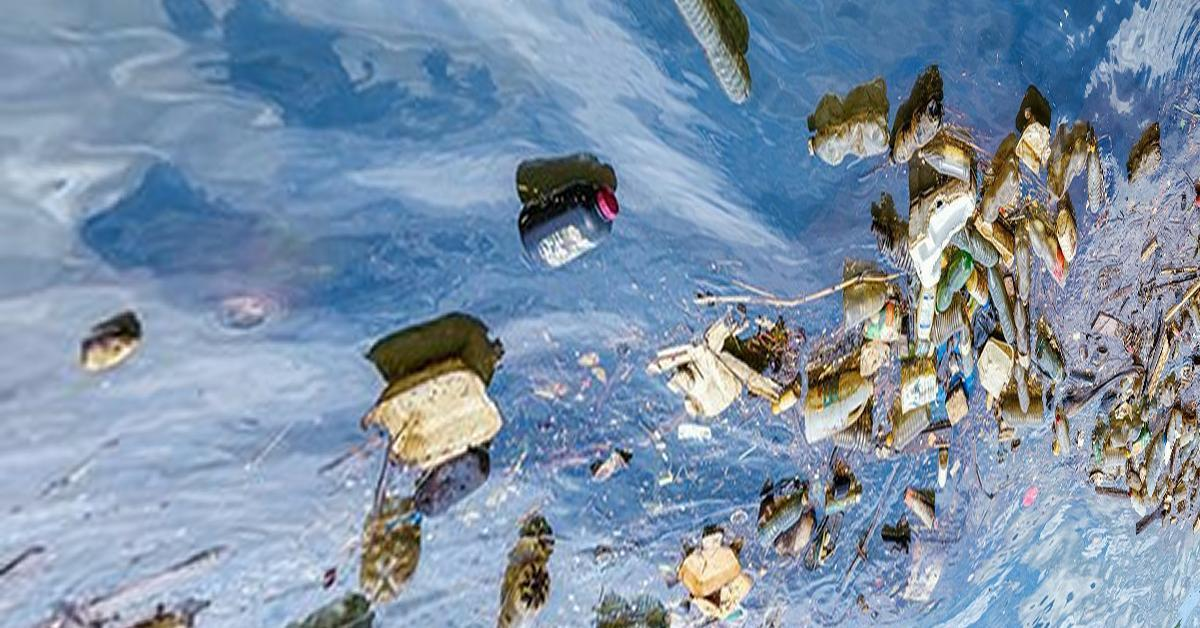Plastic Pollution: (828, 112, 1195, 501), (356, 312, 811, 615)
